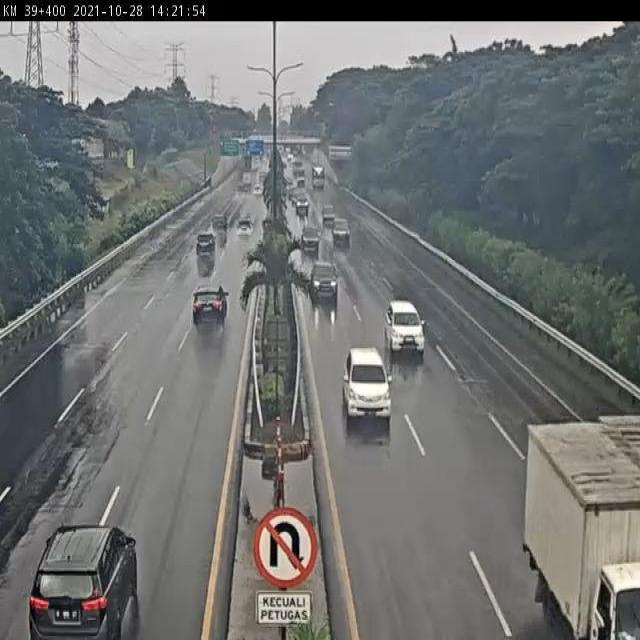car: (31, 521, 138, 640), (341, 347, 391, 421), (384, 300, 428, 355), (192, 281, 231, 331), (308, 259, 340, 297), (195, 232, 217, 257), (210, 214, 229, 234)
truck-m-: (521, 414, 640, 640)
